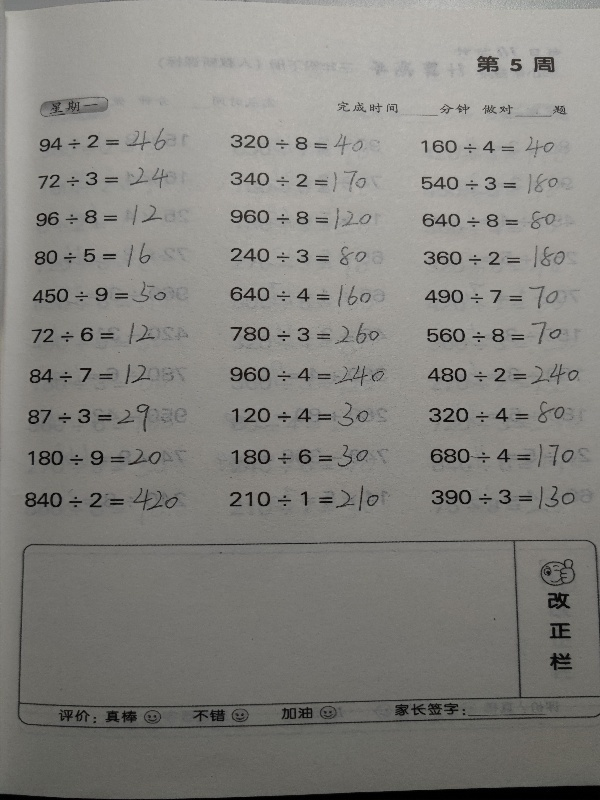equation: (226, 280, 389, 315), (229, 321, 392, 354), (223, 483, 384, 516), (22, 484, 188, 516), (427, 479, 582, 513), (423, 314, 569, 350), (227, 243, 369, 279), (24, 400, 160, 436), (429, 359, 589, 389), (419, 242, 578, 272), (428, 440, 578, 470), (35, 162, 171, 195), (230, 442, 378, 472), (32, 203, 185, 232), (23, 443, 170, 473), (27, 319, 169, 350), (35, 128, 180, 158), (228, 362, 388, 389), (227, 204, 375, 233), (228, 167, 370, 196), (229, 404, 381, 431), (418, 170, 562, 198), (228, 130, 367, 159), (28, 281, 170, 309), (418, 133, 559, 161), (32, 241, 163, 271), (419, 207, 559, 234), (422, 281, 563, 307), (427, 402, 572, 427), (25, 362, 159, 388)
